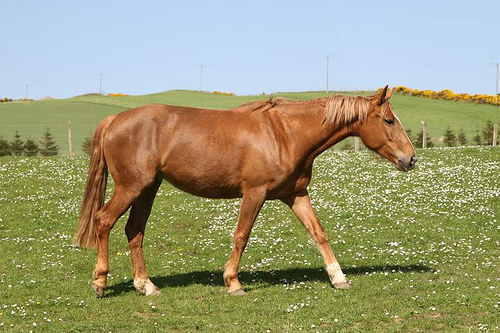horse: (61, 67, 435, 309)
